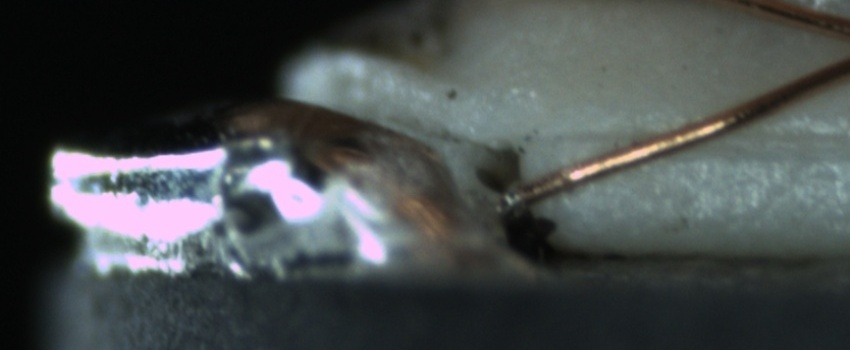DL: (548, 106, 849, 172)
